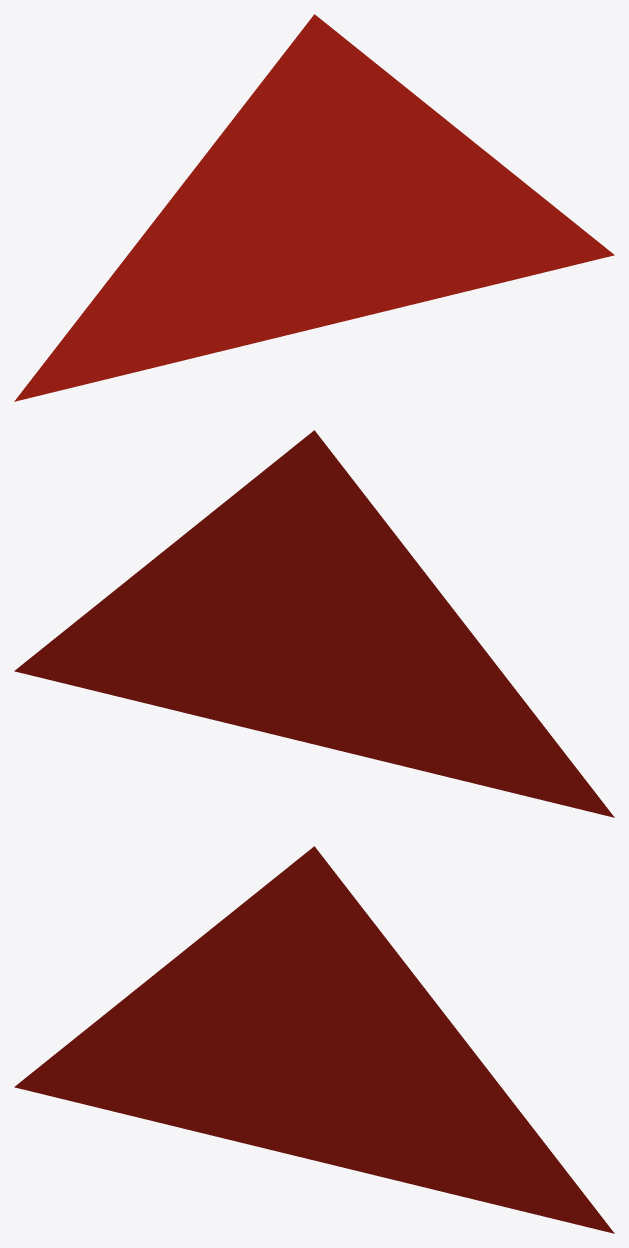
The model's file is tiny-static.fbx.
The picture shows the model from 3 angles, top to bottom: view 1: azimuth 30°, elevation 25°; view 2: azimuth 150°, elevation 25°; view 3: azimuth 330°, elevation 25°; orthographic projection.
Visible parts, largest first — view 1: Triangle; view 2: Triangle; view 3: Triangle.
Part boxes in pixels (box(x1,y1,x2,y2)): Triangle: box(14, 14, 614, 401); Triangle: box(14, 430, 614, 817); Triangle: box(14, 846, 614, 1233).
Bounding box in the file's own units: 2 × 1 × 0.
